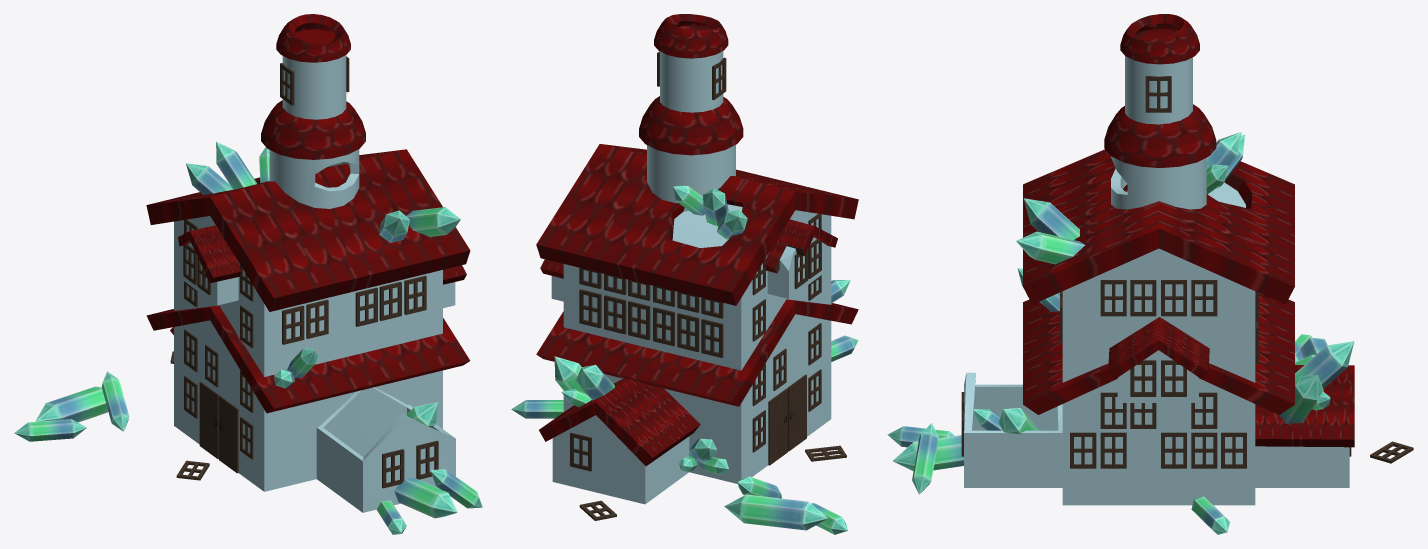
The model's file is big house destroyed.FBX.
The picture shows the model from 3 angles, left to right: view 1: azimuth 30°, elevation 25°; view 2: azimuth 150°, elevation 25°; view 3: azimuth 270°, elevation 25°; orthographic projection. The views are drawn at different scales.
Parts seen in each view (by area): view 1: Box001, Object001; view 2: Box001, Object001; view 3: Box001, Object001.
Boxes of the visible parts, x1,y1,x2,y2 form: Box001: (14,14,482,534); Object001: (146,149,470,311); Box001: (511,14,858,534); Object001: (536,144,858,305); Box001: (887,14,1413,534); Object001: (1023,149,1294,304).
Size of the model in its own units: 664 by 698 by 752.
